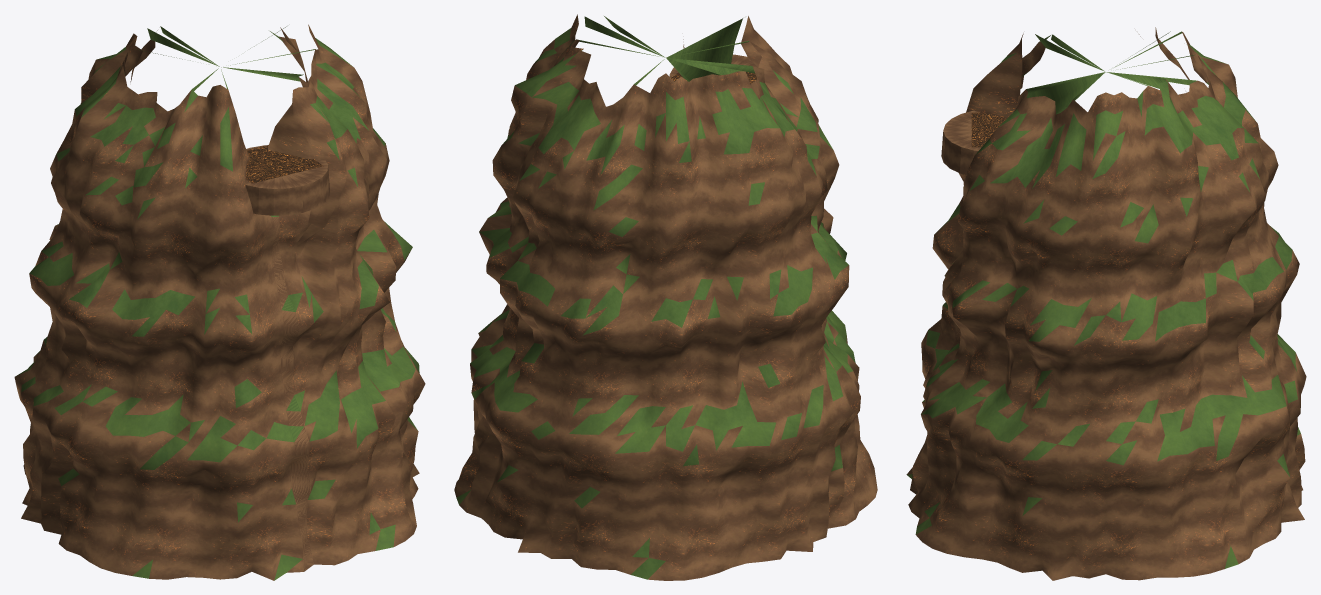
The model's file is mwm_spire.glb.
3 renders of one model, left to right at view 1: azimuth 30°, elevation 25°; view 2: azimuth 150°, elevation 25°; view 3: azimuth 270°, elevation 25°, orthographic.
Size of the model in its own units: 64.29 by 78.05 by 63.26.
Materials: 4 (4 with a texture image).
